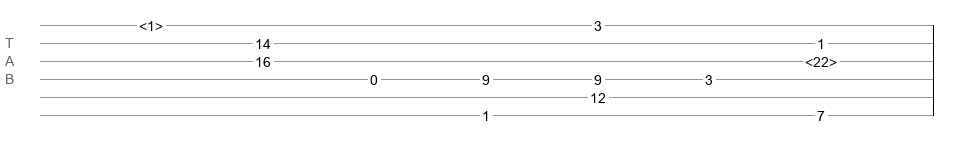0: (370, 72, 378, 82)
1: (482, 108, 490, 118), (817, 36, 825, 46)
12: (590, 90, 606, 100)
14: (255, 36, 271, 46)
16: (255, 54, 271, 64)
3: (594, 18, 602, 28), (705, 72, 713, 82)
7: (817, 108, 825, 118)
9: (482, 72, 490, 82), (594, 72, 602, 82)
harmonic: (805, 54, 837, 64), (139, 18, 163, 28)
